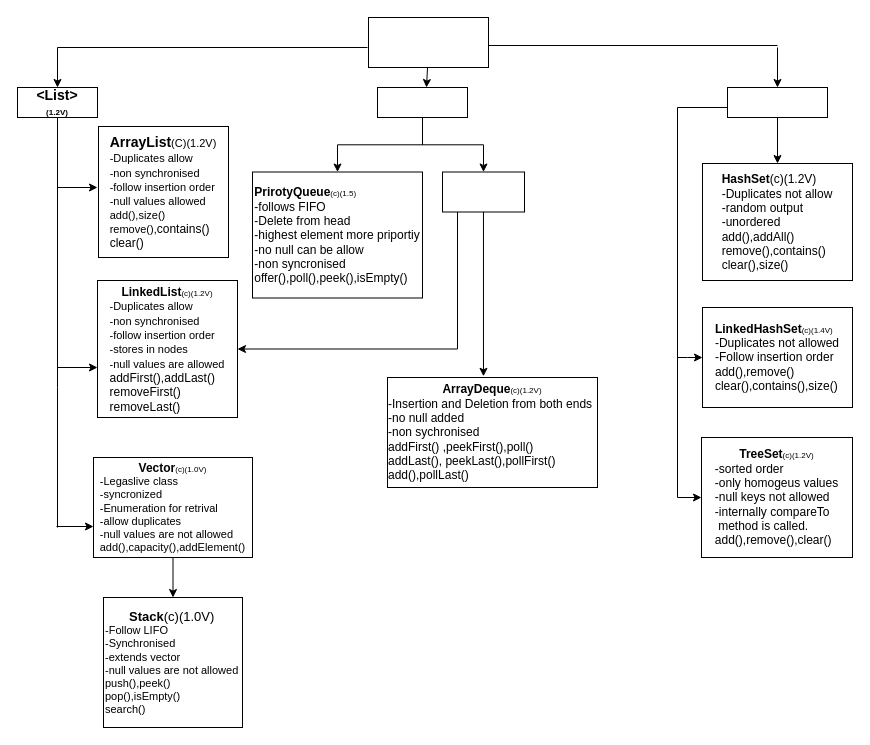
Some shapes in this 870 by 745 pixel diagram are drawn without their labels. Each missing label, with the box of its shape:
<collection> (1.2V)(root interface): (368, 16, 488, 68)
<Deque> (1.6): (442, 171, 524, 212)
<Queue> (1.5V): (376, 86, 468, 118)
<set> (1.2V): (726, 86, 828, 118)
